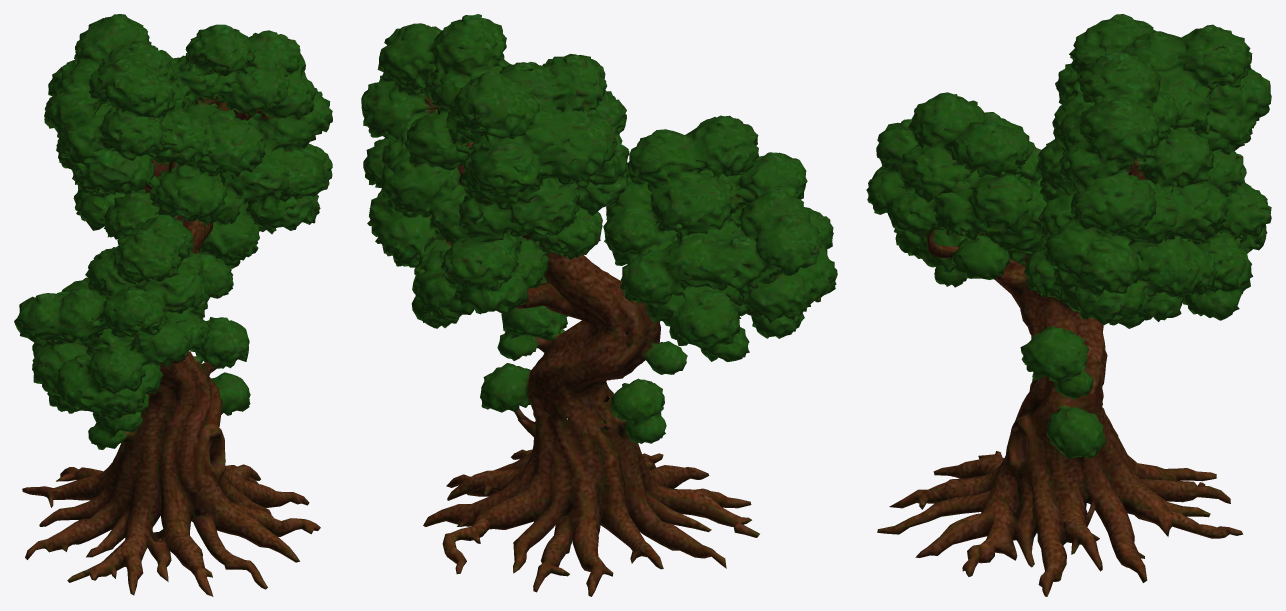
File: SMITA0_2026-08-09T015443.420.glb
3 renders of one model, left to right at view 1: azimuth 30°, elevation 25°; view 2: azimuth 150°, elevation 25°; view 3: azimuth 270°, elevation 25°, orthographic. The views are drawn at different scales.
Parts seen in each view (by area): view 1: world; view 2: world; view 3: world.
Part boxes in pixels (box(x1,y1,x2,y2)): world: box(14, 14, 332, 596); world: box(361, 14, 837, 596); world: box(866, 14, 1271, 596).
Size of the model in its own units: 0.8073 by 1 by 0.7152.
Materials: 1 (1 with a texture image).
